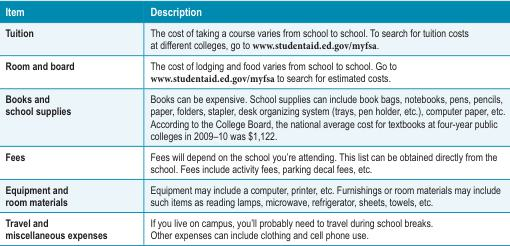table: (4, 4, 504, 240)
table column: (128, 4, 504, 240), (4, 4, 128, 240)
table column header: (4, 4, 504, 21)
table row: (4, 88, 504, 145), (4, 54, 504, 88), (4, 21, 504, 54), (4, 145, 504, 178), (4, 178, 504, 211), (4, 211, 504, 240), (4, 4, 504, 21)
